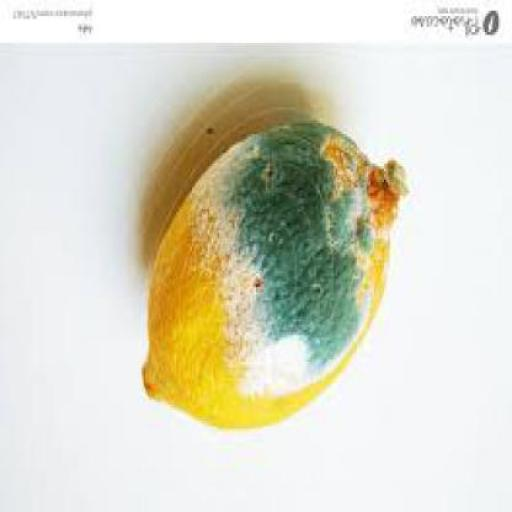biodegradable: (143, 128, 412, 434)
